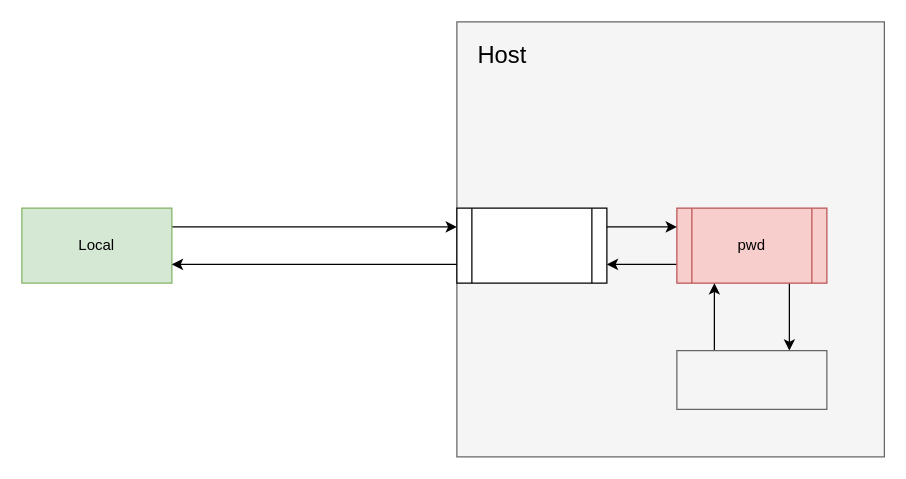
Image size: 906x479. Some labels were removed from this diagram. The shapes that lost their labels are listed below. From the top down, each one's centre as x and y in pixels, then its label:
At point (531, 245): "SSH".
At point (751, 379): "DISK".
